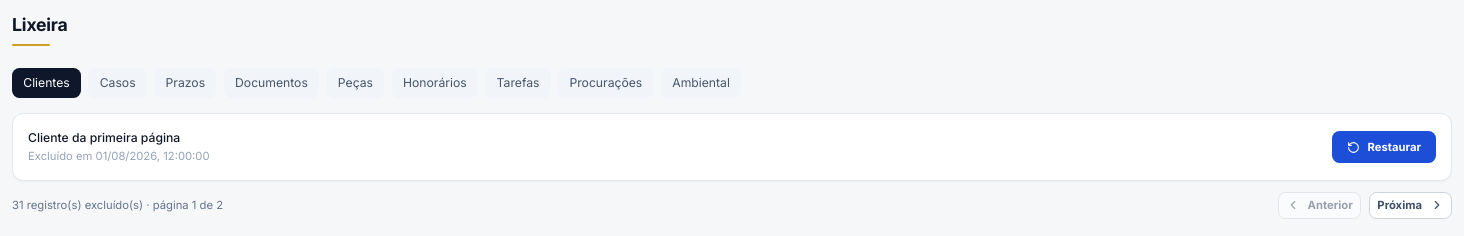
Scenario: Lixeira — paginação e restauração › navega para registros além da primeira página
This screenshot has width=1464, height=236.
Expected: the text "Cliente da primeira página" is shown, [28,130,180,145]
Expected: the text "31 registro(s) excluído(s) · página 1 de 2" is shown, [12,197,223,214]
Click the button "Próxima". click: [1410, 205]
box: [1369,192,1452,218]
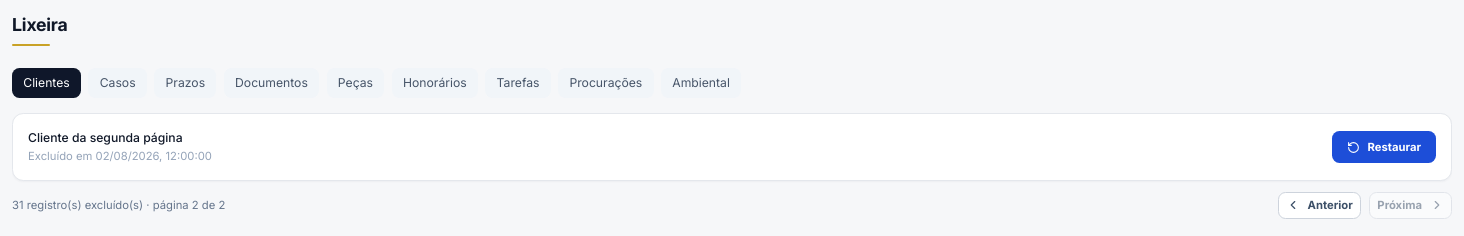
Expected: the text "Cliente da segunda página" is shown, [28,130,183,145]
Expected: the text "31 registro(s) excluído(s) · página 2 de 2" is shown, [12,197,225,214]
